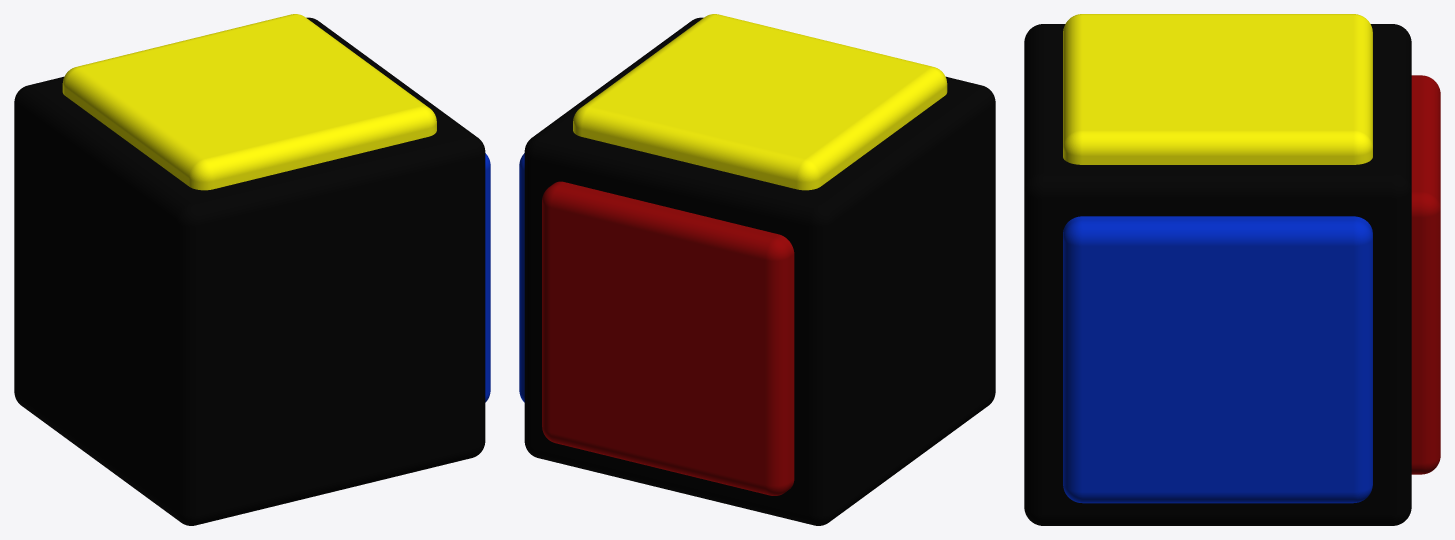
The model's file is cubinho(-1, 1, -1).obj.
3 renders of one model, left to right at view 1: azimuth 30°, elevation 25°; view 2: azimuth 150°, elevation 25°; view 3: azimuth 270°, elevation 25°, orthographic. The views are drawn at different scales.
Parts seen in each view (by area): view 1: (-1,_1,_-1); view 2: (-1,_1,_-1); view 3: (-1,_1,_-1).
Boxes of the visible parts, <box> form: (-1,_1,_-1): <box>14,14,490,525</box>; (-1,_1,_-1): <box>519,14,995,525</box>; (-1,_1,_-1): <box>1024,14,1440,525</box>.
Bounding box in the file's own units: 2.15 × 2.15 × 2.15.
